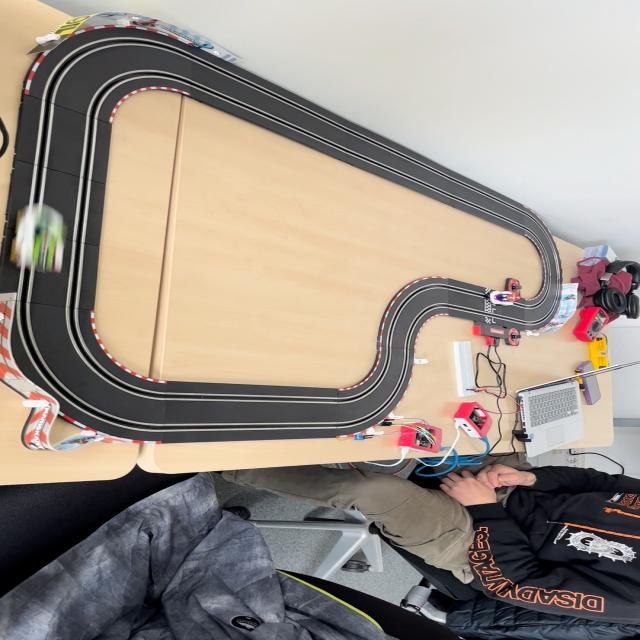mario: (487, 290, 524, 307)
yoshi: (7, 201, 78, 275)
